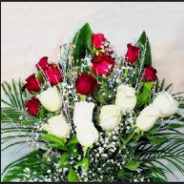RedRose: (34, 55, 68, 85), (90, 54, 122, 75), (118, 40, 142, 65), (73, 70, 97, 94), (90, 28, 114, 50), (20, 97, 43, 117), (20, 75, 43, 94), (145, 70, 160, 83)
